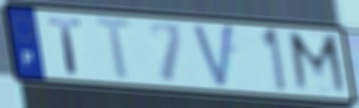1: (259, 26, 290, 96)
7: (146, 21, 185, 85)
M: (285, 29, 352, 99)
T: (92, 15, 139, 84), (45, 16, 85, 76)
V: (189, 22, 237, 93)
